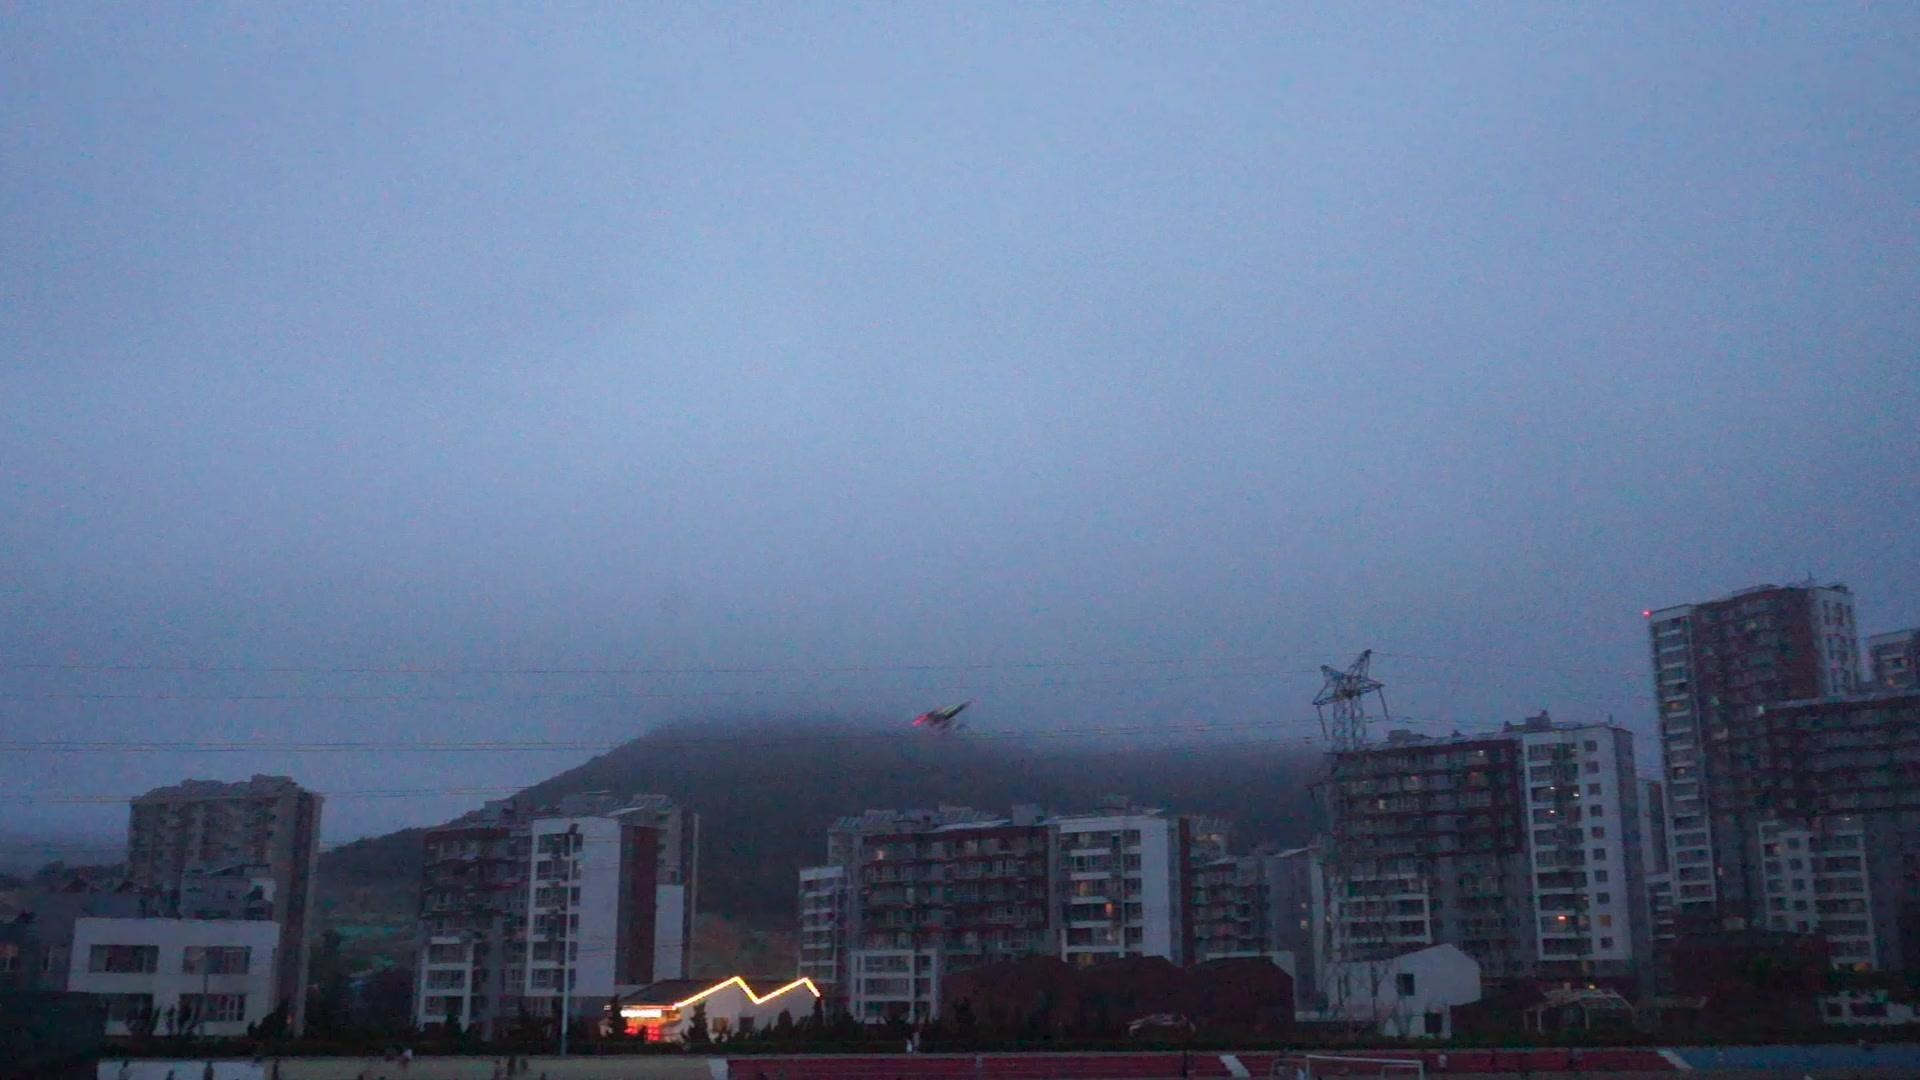UAV: (913, 702, 972, 731)
